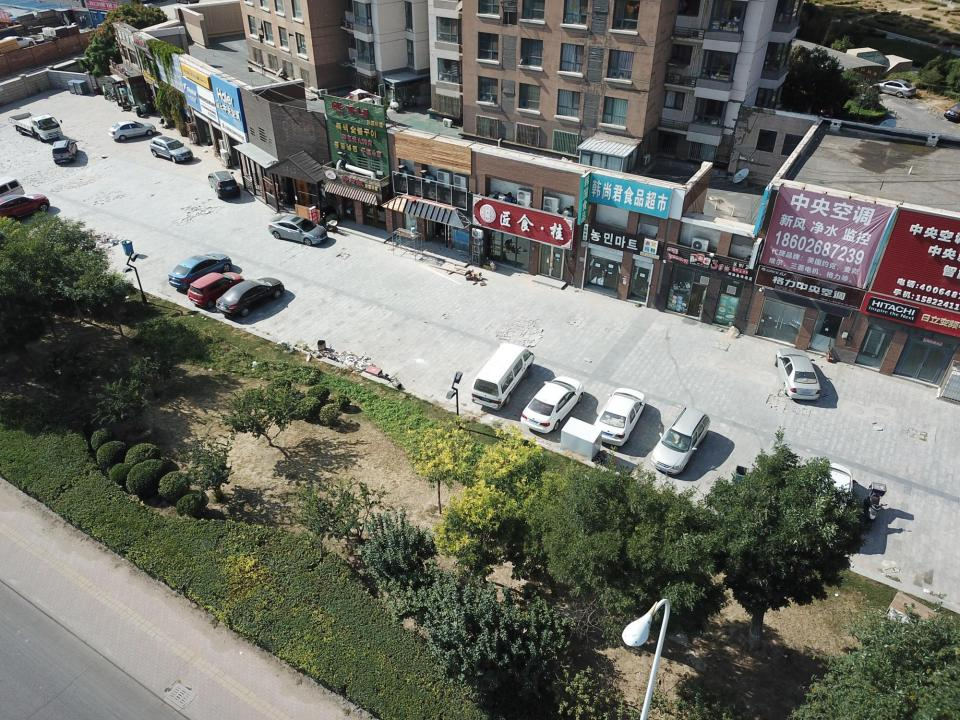car: (650, 405, 710, 475), (811, 460, 858, 538), (520, 376, 584, 433), (595, 388, 644, 446), (216, 276, 285, 317), (775, 348, 821, 400), (168, 253, 232, 290), (187, 271, 245, 308), (268, 214, 327, 246), (0, 193, 50, 224), (149, 136, 193, 164), (108, 120, 156, 141), (208, 171, 241, 198), (872, 80, 916, 98), (52, 140, 78, 164), (0, 36, 35, 50), (811, 100, 833, 118)
truck: (8, 112, 64, 142)
van: (471, 342, 534, 410)
